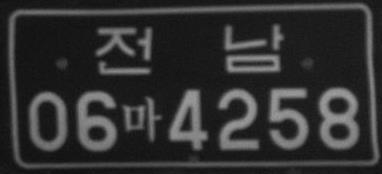0: (27, 90, 68, 153)
2: (216, 87, 261, 151)
4: (168, 87, 208, 150)
5: (267, 87, 310, 151)
6: (74, 90, 119, 153)
8: (317, 86, 360, 151)
마: (121, 95, 162, 143)
전남_D: (96, 23, 284, 76)
